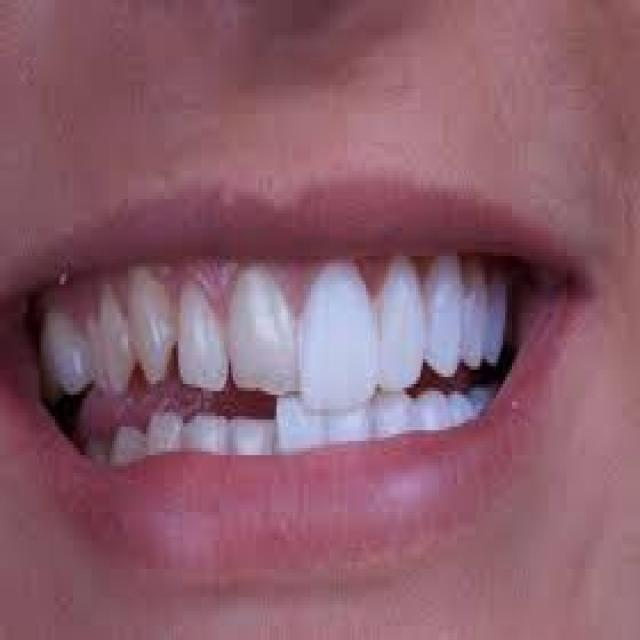tooth: (309, 263, 370, 395), (236, 277, 297, 384), (176, 278, 229, 380), (380, 260, 420, 388), (423, 252, 462, 366), (85, 295, 124, 377), (468, 270, 503, 356), (137, 281, 167, 377), (233, 416, 277, 473), (279, 394, 322, 444), (48, 309, 73, 377), (140, 420, 188, 448), (325, 409, 368, 437), (409, 398, 446, 427), (187, 409, 215, 441), (377, 402, 407, 430), (112, 423, 135, 459)
